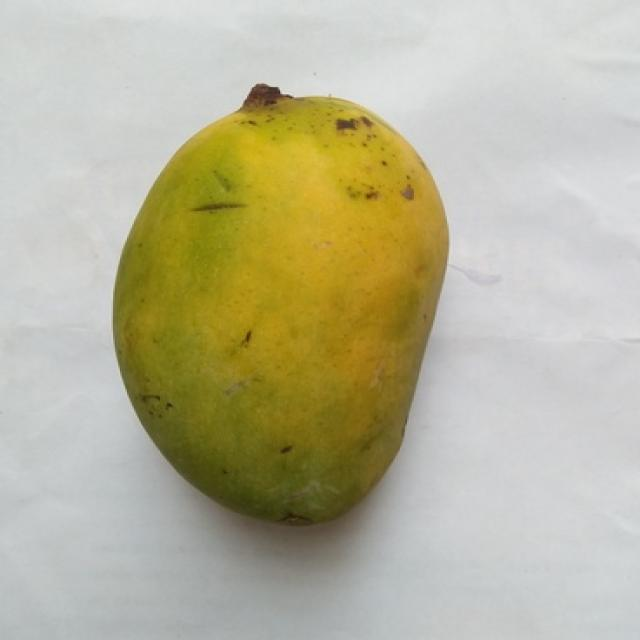Mango: (113, 87, 447, 522)
